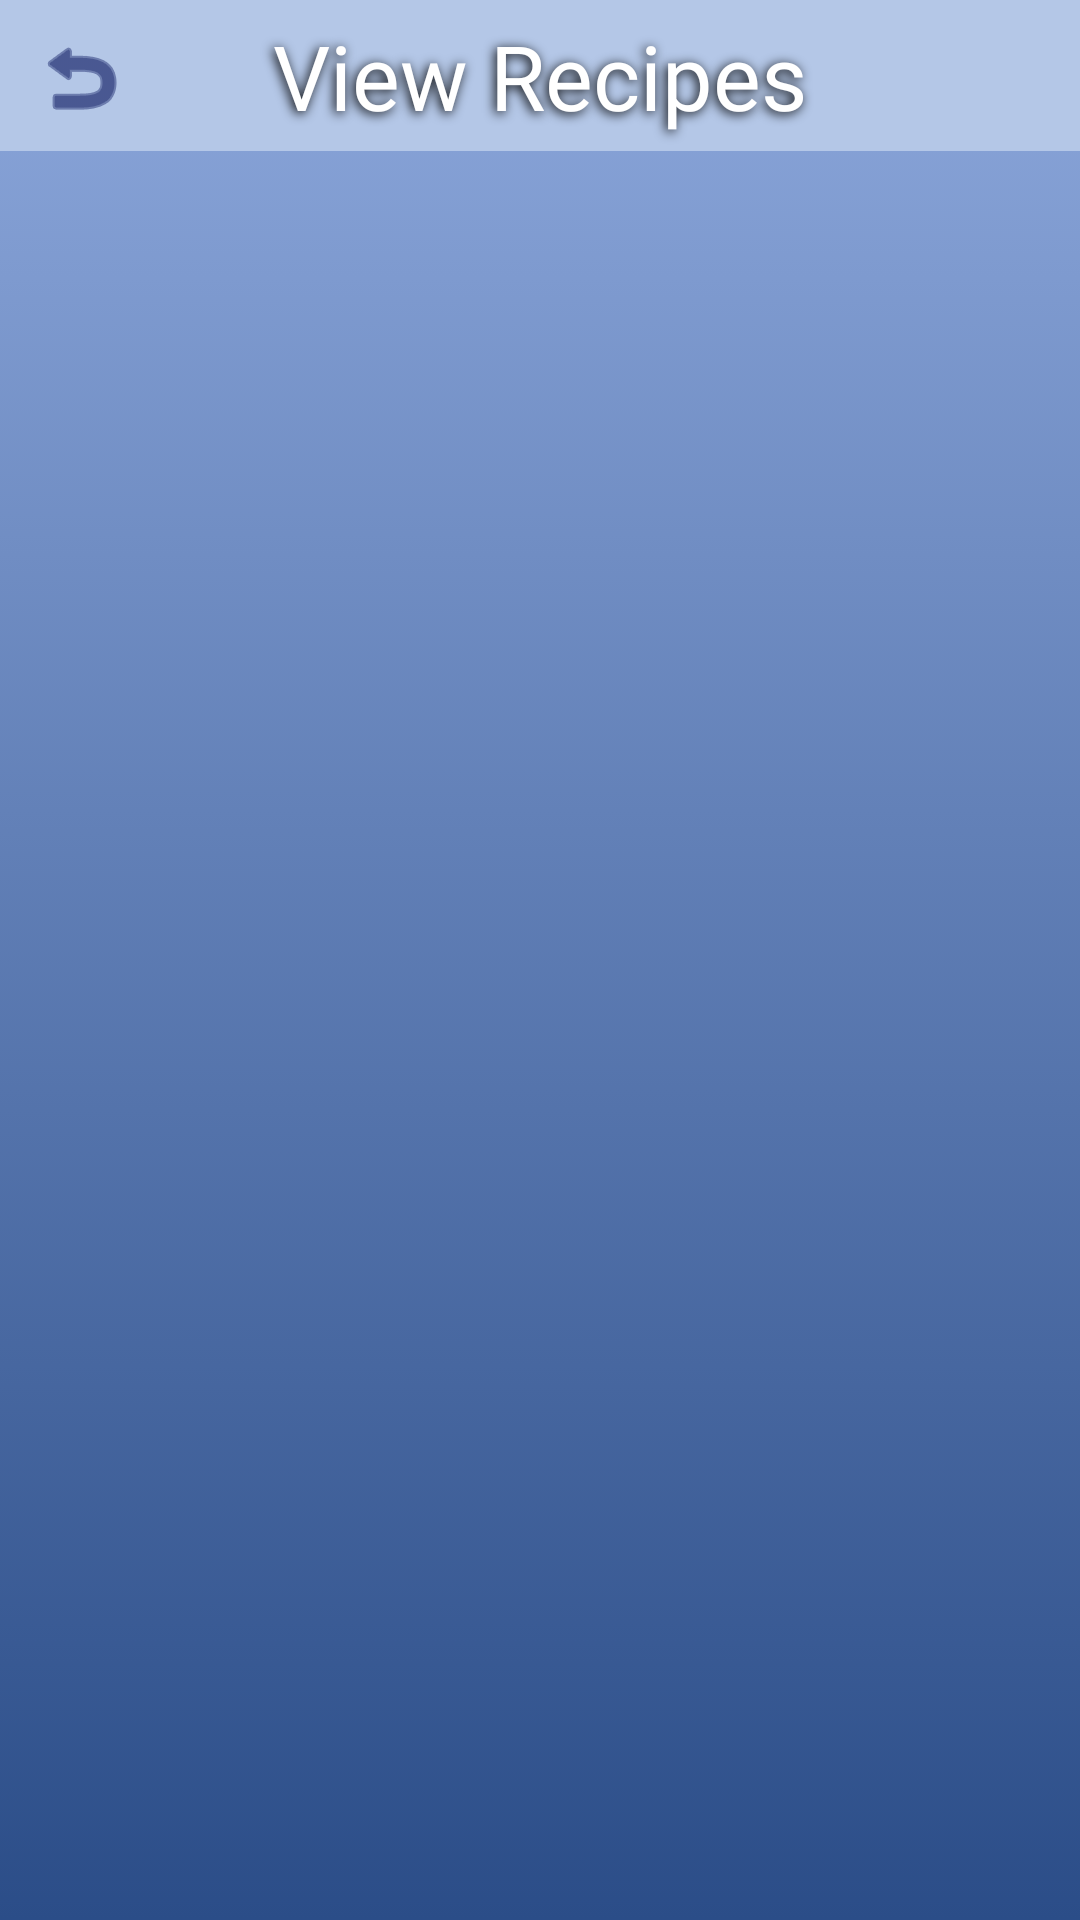

Named icons in this screenshot (1080 x 1920) and their centers, (x=x, y=y):
revert: (x=82, y=78)
